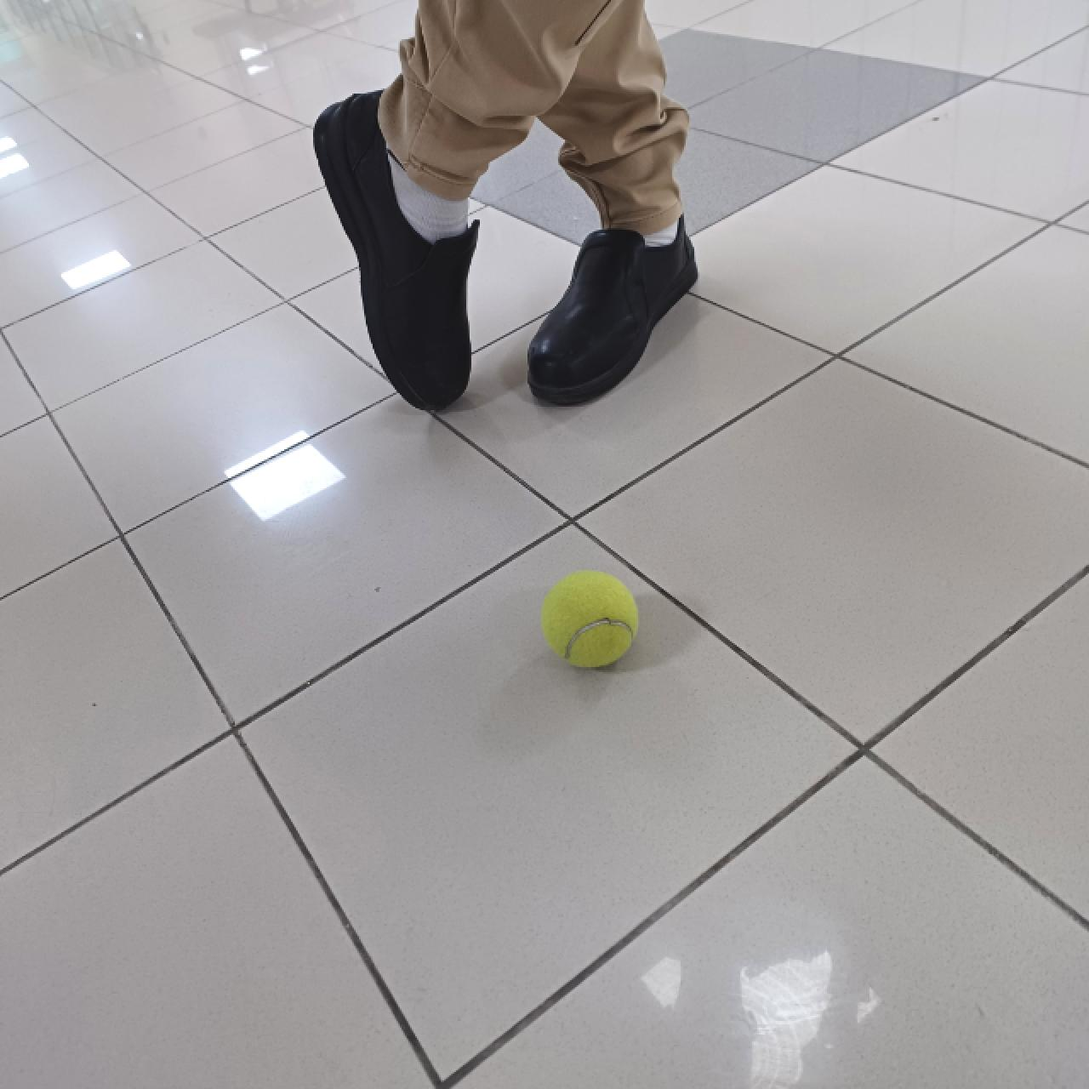tennis-ball: (539, 567, 639, 671)
